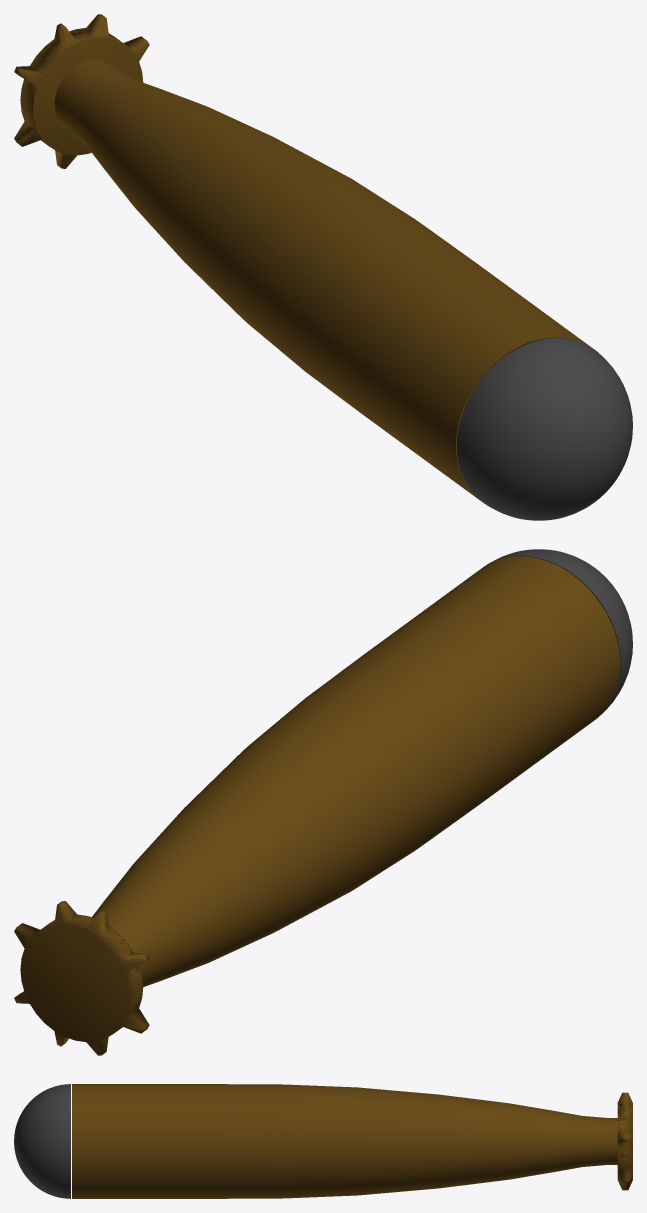
File: Projectile_Torpedo.fbx
3 renders of one model, top to bottom at view 1: azimuth 30°, elevation 25°; view 2: azimuth 150°, elevation 25°; view 3: azimuth 270°, elevation 25°, orthographic. The views are drawn at different scales.
Visible parts, largest first — view 1: Sphere, Sphere.001, Cylinder; view 2: Sphere, Cylinder, Sphere.001; view 3: Sphere, Sphere.001, Cylinder.
Boxes of the visible parts, left/top/right/bottom form: Sphere: left=54, top=60, right=590, bottom=499; Sphere.001: left=456, top=338, right=632, bottom=520; Cylinder: left=14, top=14, right=149, bottom=168; Sphere: left=92, top=556, right=620, bottom=986; Cylinder: left=14, top=901, right=149, bottom=1055; Sphere.001: left=489, top=549, right=632, bottom=718; Sphere: left=72, top=1084, right=617, bottom=1198; Sphere.001: left=14, top=1084, right=70, bottom=1198; Cylinder: left=617, top=1092, right=632, bottom=1190.
Bounding box in the file's own units: 199 × 199 × 1070.
